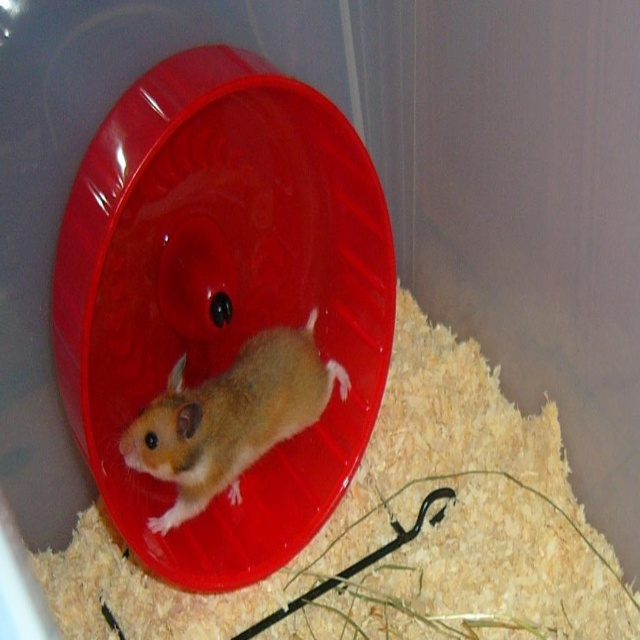Mouse: (115, 330, 325, 533)
